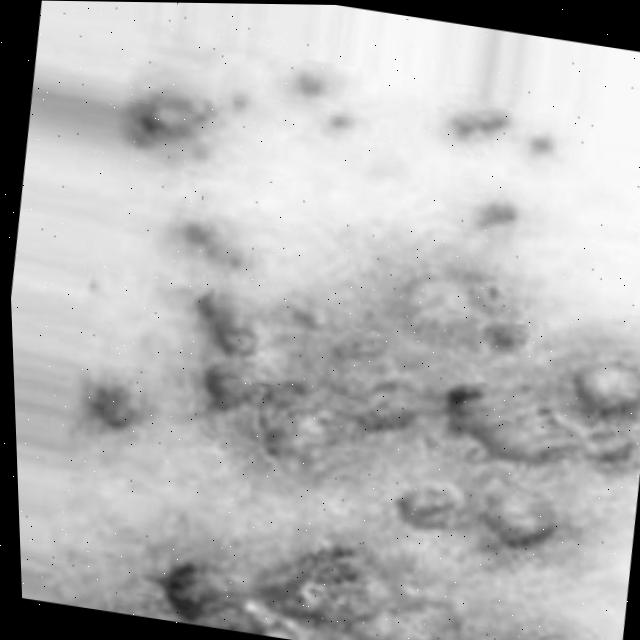Shingles: (177, 297, 640, 504), (150, 513, 501, 640), (394, 476, 556, 559), (406, 267, 537, 352), (143, 90, 224, 162), (446, 100, 515, 151), (182, 225, 244, 272), (95, 376, 145, 430)
